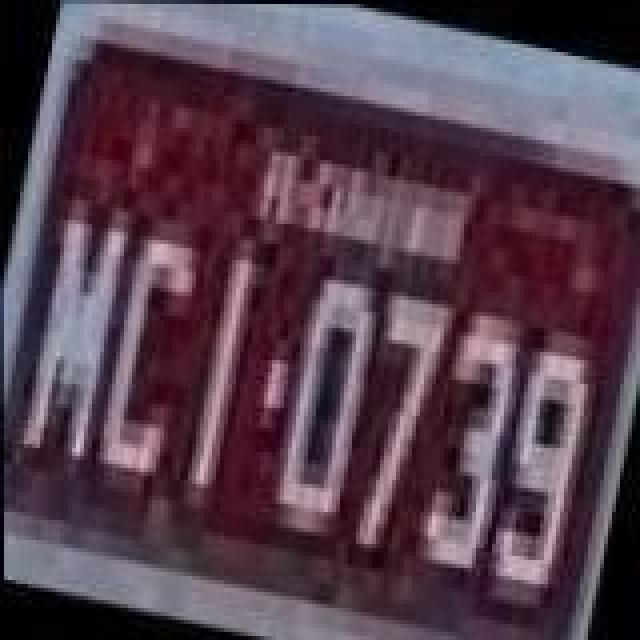1: (176, 238, 260, 502)
3: (404, 308, 528, 584)
7: (334, 282, 454, 558)
9: (476, 338, 600, 610)
C: (84, 228, 208, 496)
M: (12, 200, 136, 480)
O: (258, 266, 386, 542)
